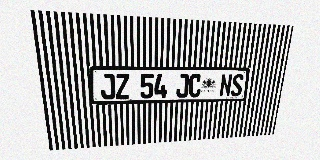4: (154, 74, 167, 98)
5: (140, 74, 154, 99)
C: (188, 74, 202, 97)
J: (100, 74, 115, 100), (176, 74, 189, 98)
N: (219, 74, 233, 97)
S: (230, 74, 244, 96)
Z: (115, 74, 130, 99)
